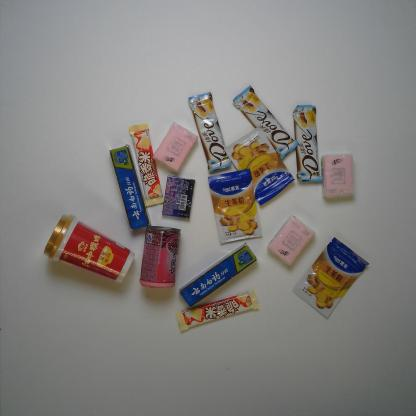Canned Food: (138, 223, 182, 289)
Chocolate: (231, 84, 300, 162), (174, 289, 261, 334), (187, 91, 232, 173), (128, 121, 166, 208), (292, 103, 324, 184)
Gum: (161, 173, 197, 220)
Instant Drink: (41, 213, 136, 285)
Personal Hygiene: (176, 241, 261, 310), (108, 143, 154, 232)
Seasoner: (292, 235, 370, 320), (222, 124, 296, 207), (206, 168, 264, 245)
Tissue: (264, 214, 316, 269), (152, 121, 200, 175), (320, 152, 355, 200)
